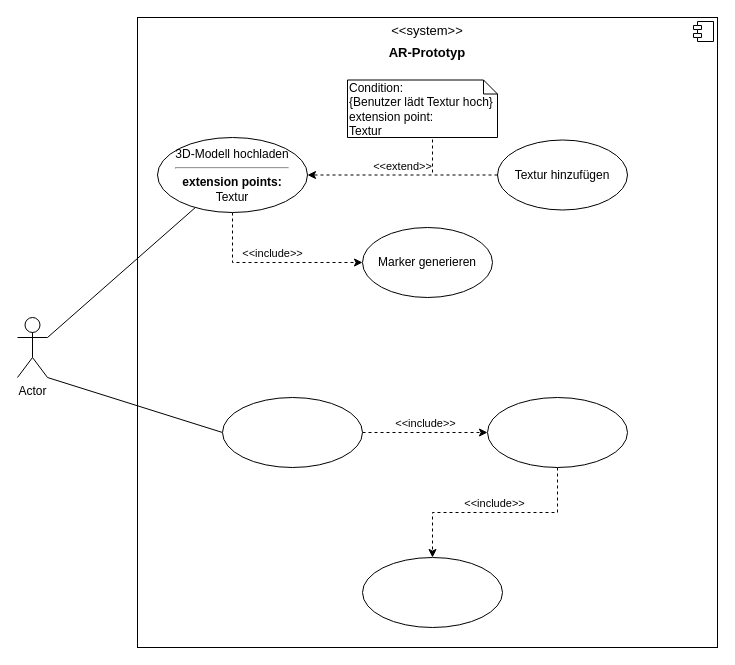
This 735x665 diagram has some shape labels left out. The shapes that lost their labels are listed below. From the top down, each one's centre as x and y in pixels, then its label:
the point at 292,432: Kamera auswählen
the point at 557,432: Marker tracken
the point at 432,592: 3D-Modelle rendern
